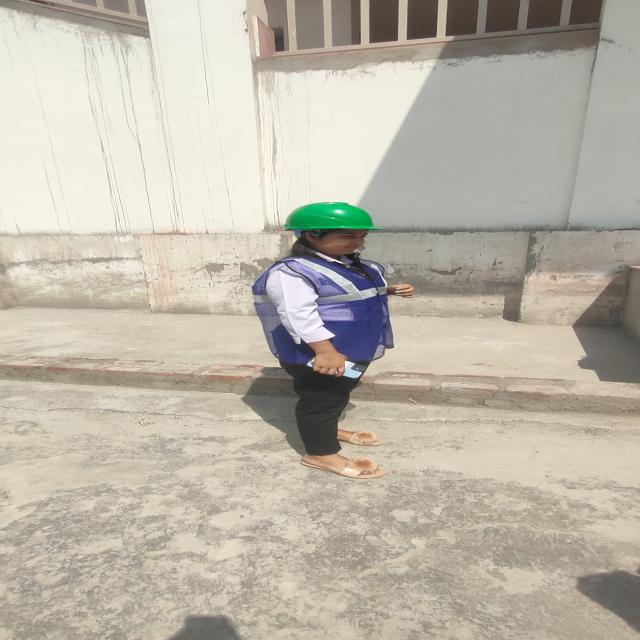safe: (254, 202, 411, 478)
